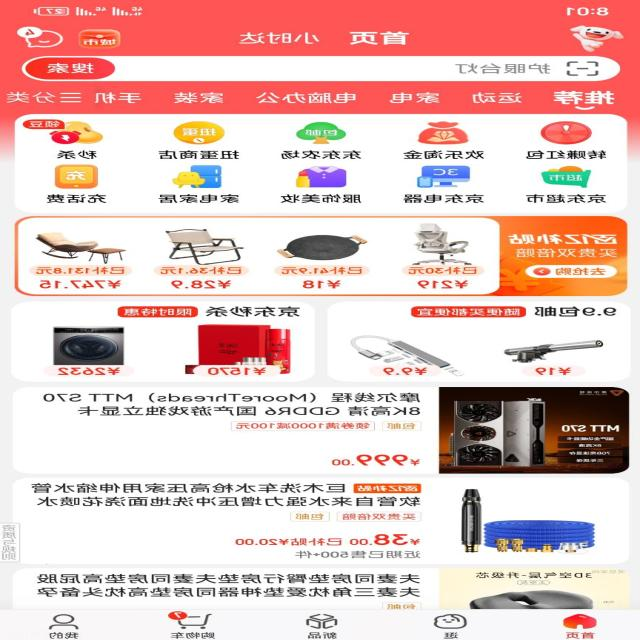Icon: (22, 57, 114, 80), (172, 165, 222, 189), (172, 122, 225, 144), (50, 122, 103, 144), (417, 122, 469, 144), (294, 166, 347, 187), (542, 122, 592, 144), (417, 166, 469, 187), (542, 166, 592, 187), (297, 122, 344, 144), (56, 165, 97, 189), (17, 27, 61, 47), (47, 613, 78, 640), (78, 29, 119, 48), (167, 611, 210, 629), (433, 613, 467, 629), (561, 614, 597, 629), (306, 613, 339, 629), (567, 61, 600, 76), (167, 611, 189, 621)
SearchBar: (22, 56, 619, 81)
